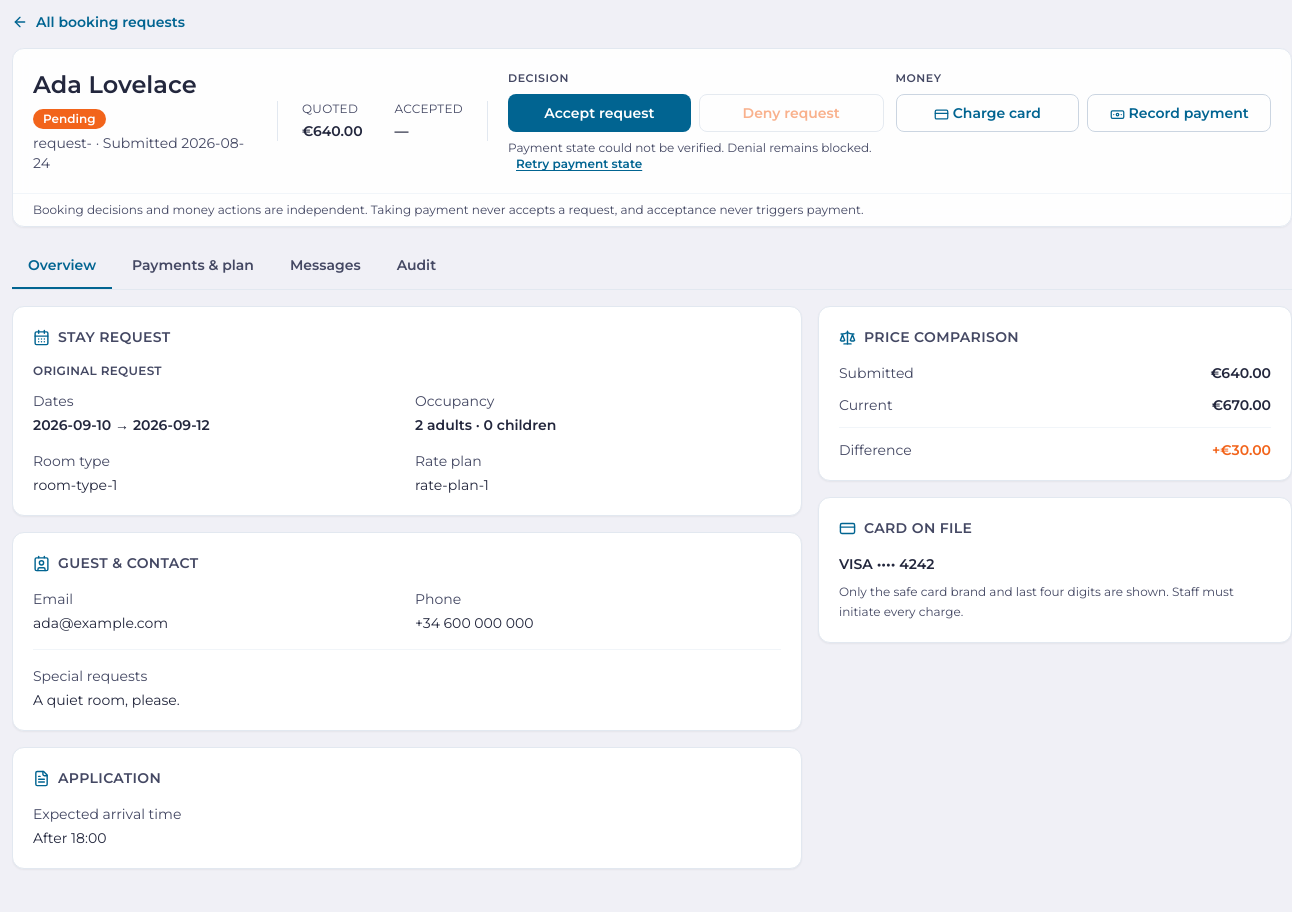
Test: Booking request payments, messages, and audit › fails closed when an empty payment response is shared from the request page cache
Click the tab "Payments & plan" at [193, 266], box [116, 243, 270, 289]
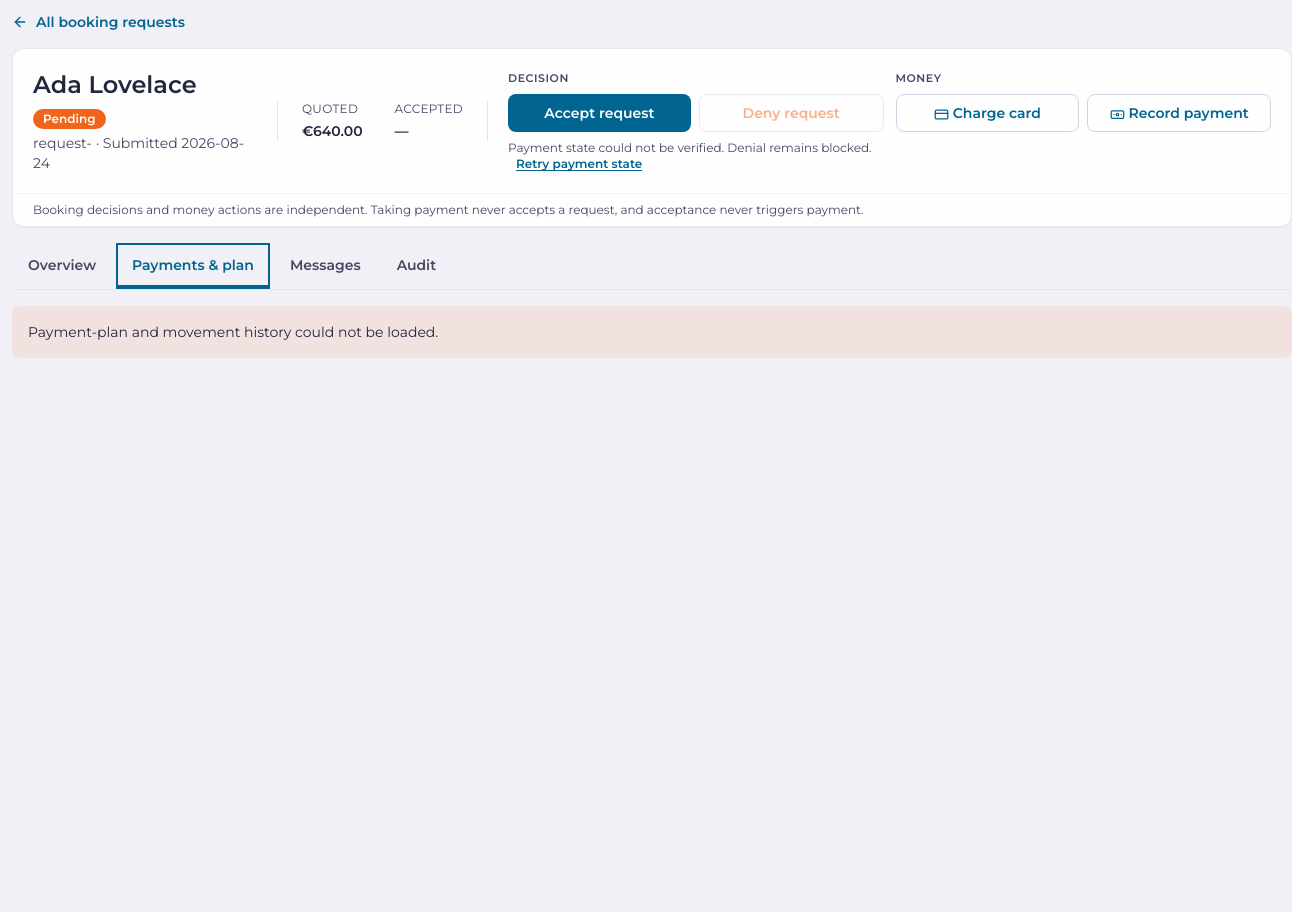
Now the text "Payment-plan and movement history could not be loaded." is shown, box [12, 306, 1291, 358]
